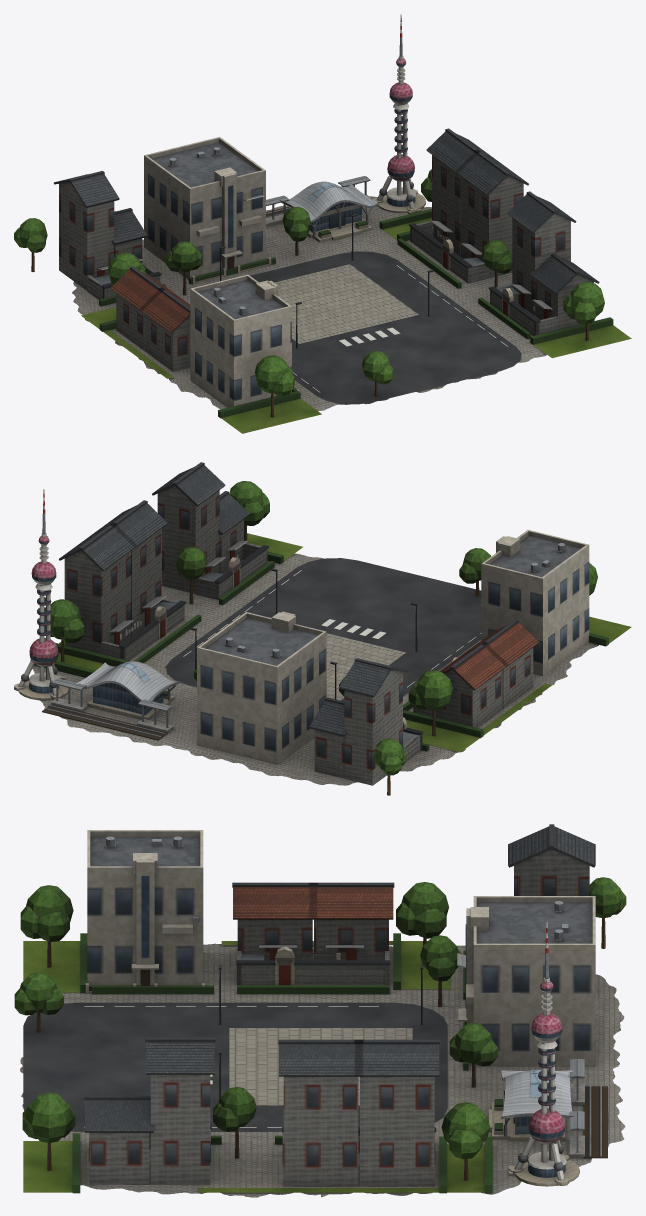
File: modern-town-small-b-sinic.glb
3 views of the same model, one above another, from view 1: azimuth 30°, elevation 25°; view 2: azimuth 150°, elevation 25°; view 3: azimuth 270°, elevation 25° (orthographic). The views are drawn at different scales.
Visible parts, largest first — view 1: LOD0; view 2: LOD0; view 3: LOD0.
Part boxes in pixels (x1,y1,x2,y2): LOD0: [14, 14, 631, 433]; LOD0: [14, 462, 631, 795]; LOD0: [14, 824, 626, 1197].
Size of what is drawn, in the model's own units: 4.02 by 1.83 by 4.05.
3 materials, 3 textured.
